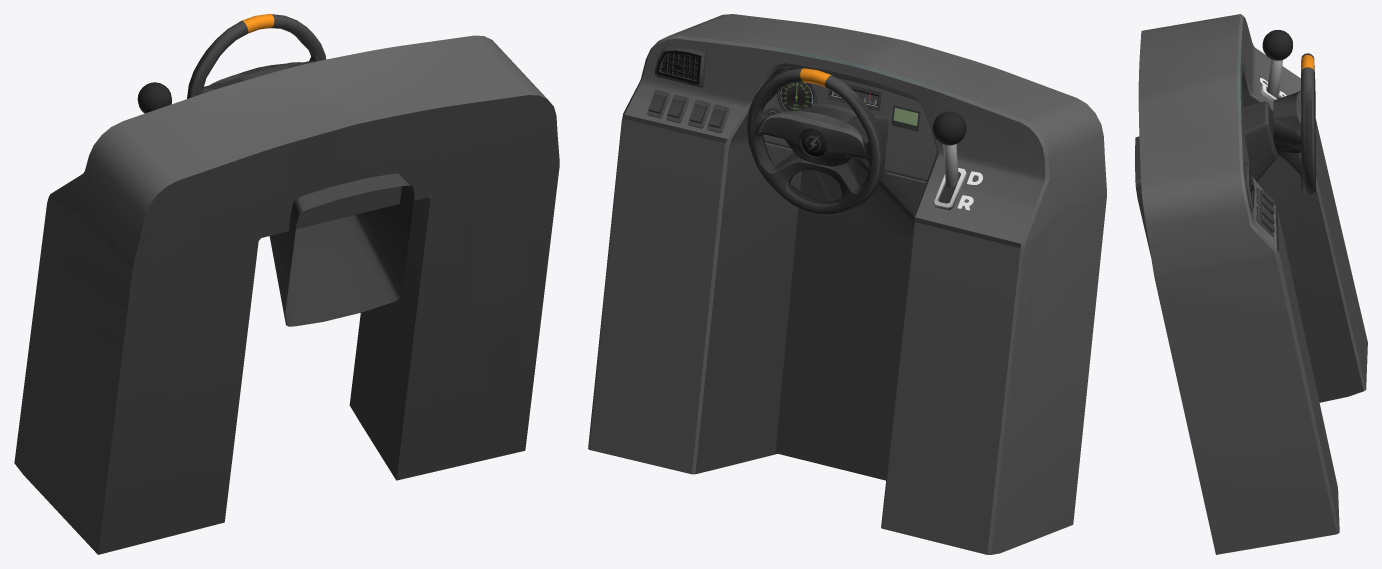
Rendered from Truck Dashboard.fbx.
3 views of the same model, side by side, from view 1: azimuth 30°, elevation 25°; view 2: azimuth 150°, elevation 25°; view 3: azimuth 270°, elevation 25° (orthographic). The views are drawn at different scales.
Parts seen in each view (by area): view 1: Base, Rubble, Transmission; view 2: Base, Rubble, Transmission, TransmissionBase; view 3: Base, Rubble, Transmission.
Part boxes in pixels (x1,y1,x2,y2): Base: (14, 35, 559, 554); Rubble: (187, 14, 326, 98); Transmission: (137, 82, 171, 113); Base: (588, 14, 1106, 554); Rubble: (746, 68, 884, 215); Transmission: (932, 111, 966, 187); TransmissionBase: (933, 168, 966, 209); Base: (1135, 14, 1367, 554); Rubble: (1273, 53, 1316, 194); Transmission: (1262, 30, 1292, 98).
Bounding box in the file's own units: 354 × 356 × 187.
